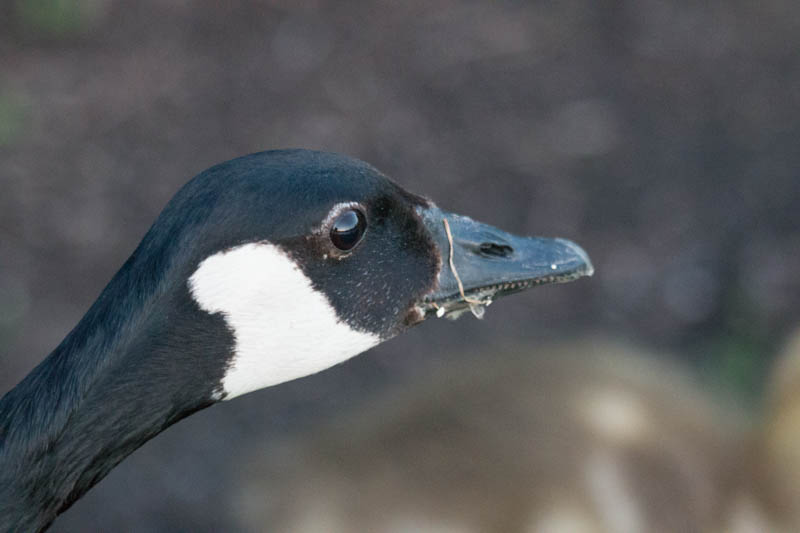goose-head: (143, 151, 595, 416)
